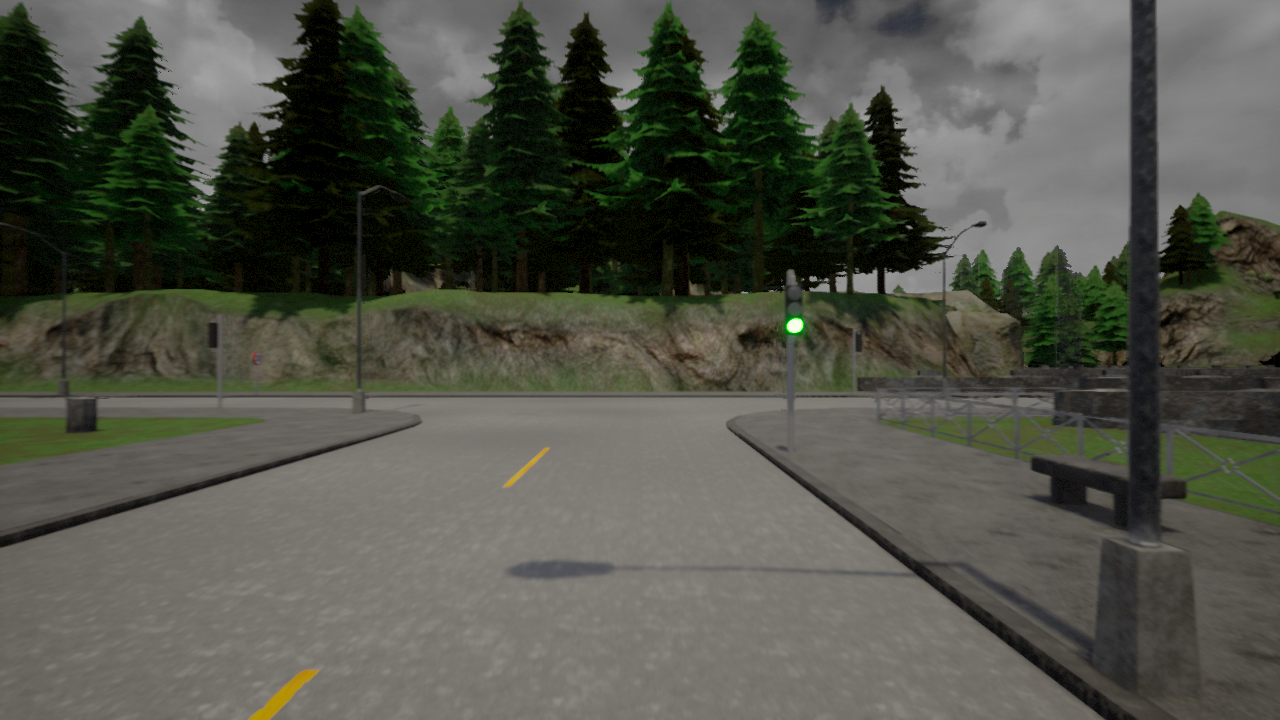green: (783, 283, 804, 336)
